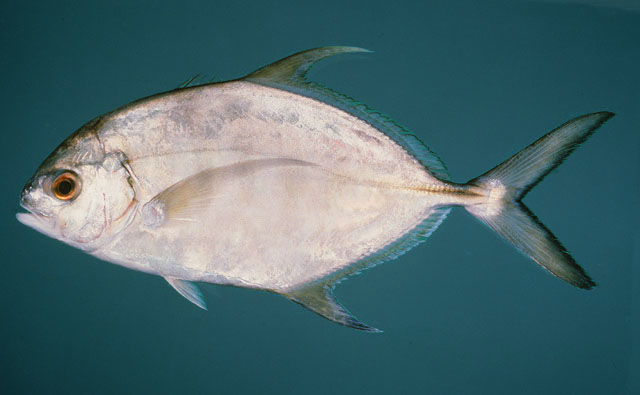fish: (18, 45, 616, 332)
